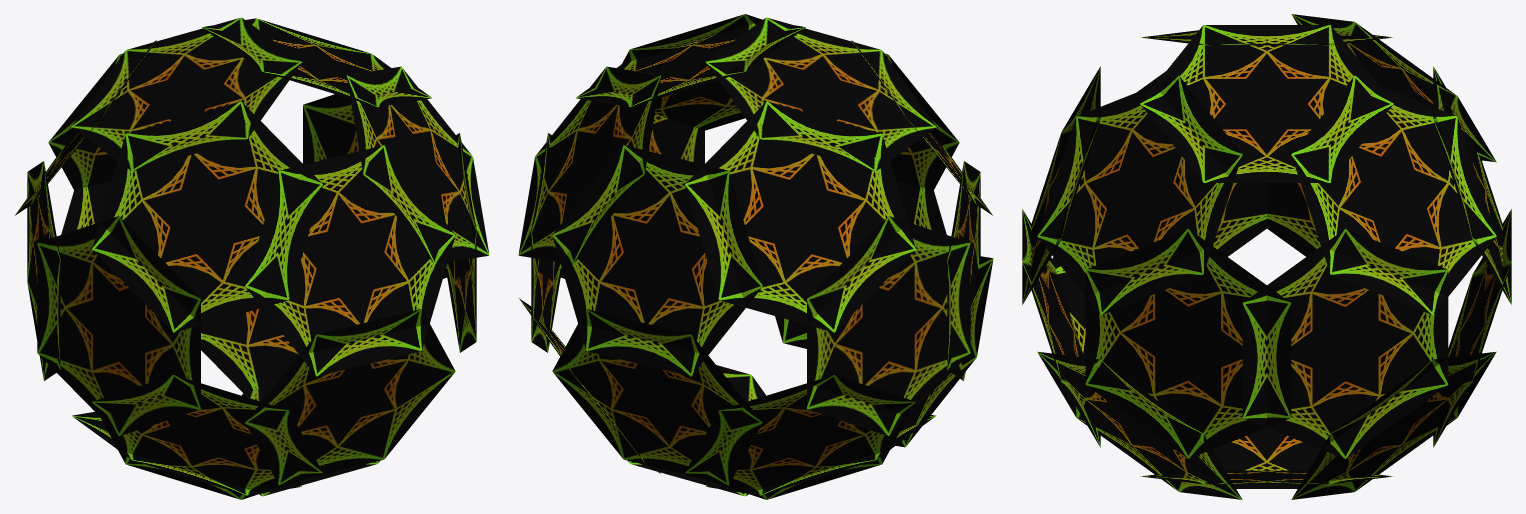
Rendered from IcositruncatedDodecadodecahedron45.gltf.
3 views of the same model, side by side, from view 1: azimuth 30°, elevation 25°; view 2: azimuth 150°, elevation 25°; view 3: azimuth 270°, elevation 25° (orthographic). The views are drawn at different scales.
Parts seen in each view (by area): view 1: IcositruncatedDodecadodecahedron; view 2: IcositruncatedDodecadodecahedron; view 3: IcositruncatedDodecadodecahedron.
Part boxes in pixels (x1,y1,x2,y2): IcositruncatedDodecadodecahedron: (15,17,489,499); IcositruncatedDodecadodecahedron: (518,14,993,499); IcositruncatedDodecadodecahedron: (1022,14,1511,499).
Bounding box in the file's own units: 3.85 × 3.85 × 3.85.
Materials: 1 (1 with a texture image).
